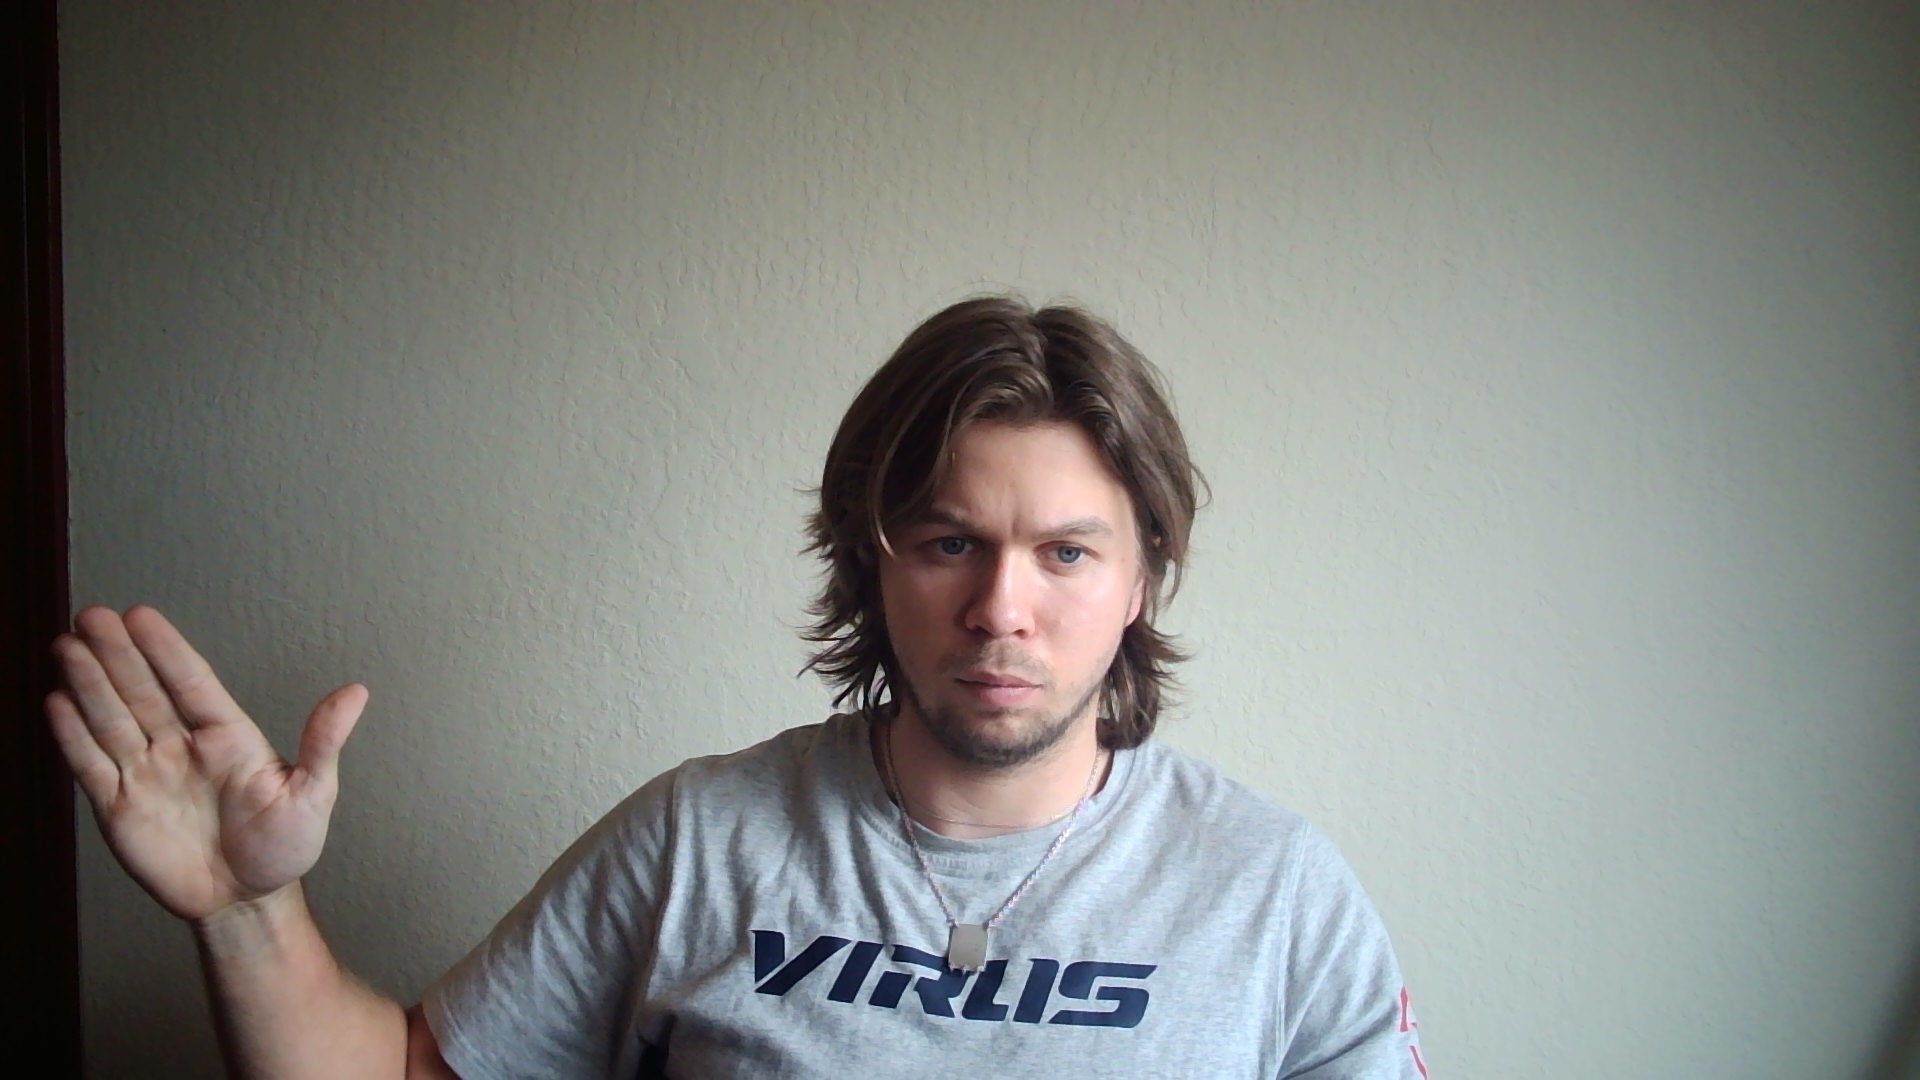hello: (46, 604, 369, 920)
